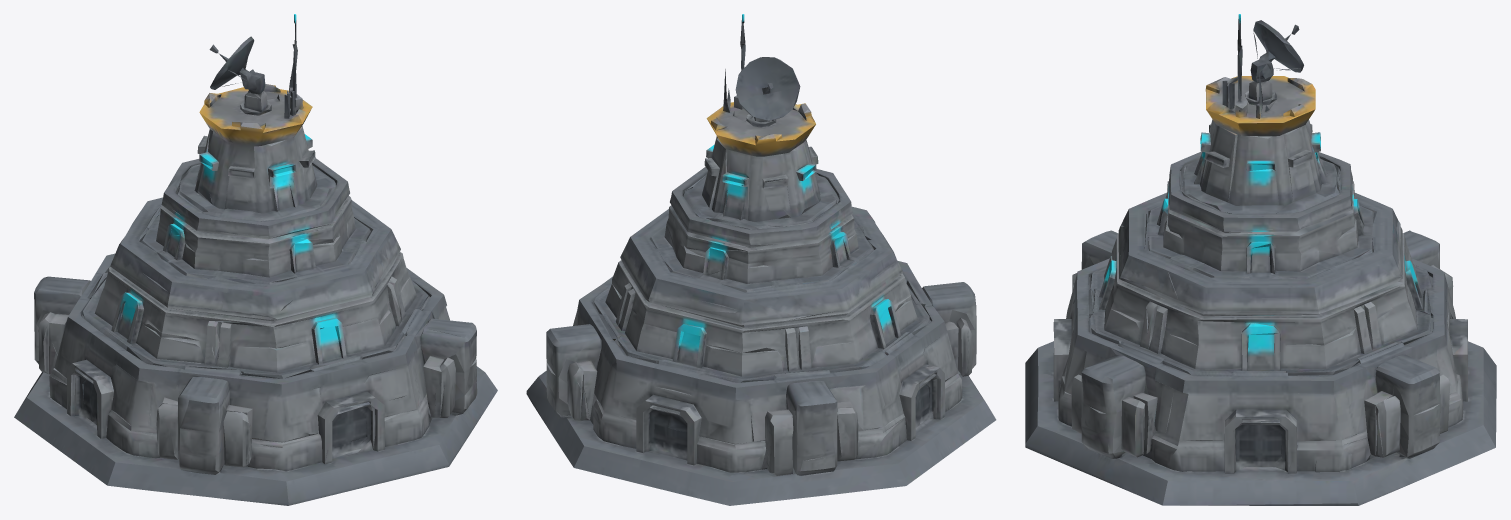
File: town-cc-light.glb
3 renders of one model, left to right at view 1: azimuth 30°, elevation 25°; view 2: azimuth 150°, elevation 25°; view 3: azimuth 270°, elevation 25°, orthographic. The views are drawn at different scales.
Parts seen in each view (by area): view 1: town-cc-light; view 2: town-cc-light; view 3: town-cc-light.
Boxes of the visible parts, x1,y1,x2,y2 form: town-cc-light: (14,14,497,505); town-cc-light: (526,14,996,505); town-cc-light: (1025,14,1496,505).
Size of the model in its own units: 14.38 by 13.7 by 14.37.
Materials: 1 (1 with a texture image).
